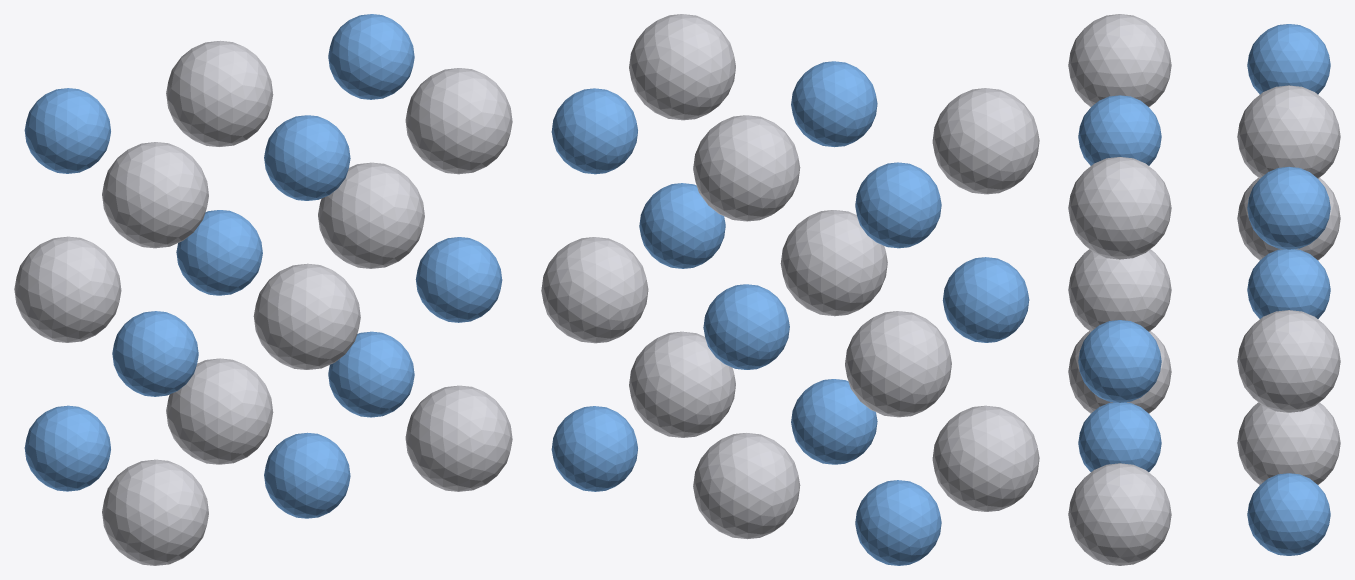
File: NaCl_lattice.glb
The picture shows the model from 3 angles, left to right: view 1: azimuth 30°, elevation 25°; view 2: azimuth 150°, elevation 25°; view 3: azimuth 270°, elevation 25°; orthographic projection. The views are drawn at different scales.
Parts seen in each view (by area): view 1: world; view 2: world; view 3: world.
Part boxes in pixels (x1=…): world: x1=14, y1=14, x2=512, y2=565; world: x1=541, y1=14, x2=1039, y2=565; world: x1=1068, y1=14, x2=1340, y2=565.
Bounding box in the file's own units: 4.44 × 4.44 × 2.74.
